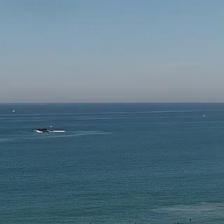surfer: (189, 218, 192, 222), (90, 223, 92, 223), (134, 223, 138, 223), (177, 223, 180, 223)
